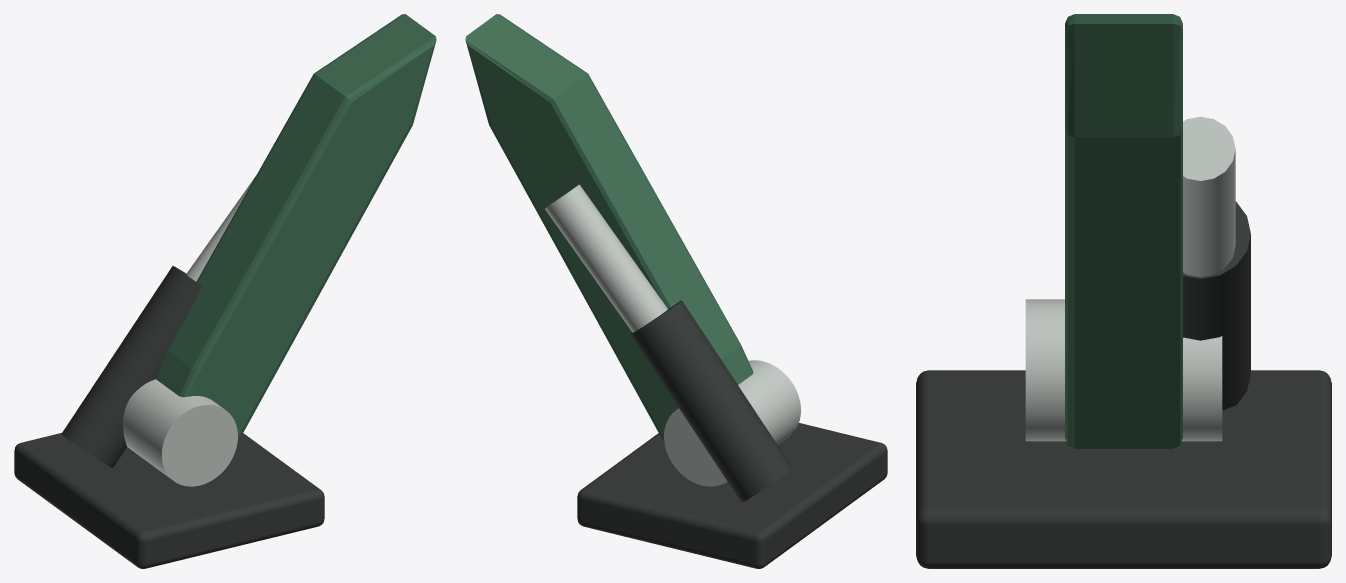
File: sawmill-and-timber-yard-log-turning-arm-dd2c0c8c__31160.glb
3 renders of one model, left to right at view 1: azimuth 30°, elevation 25°; view 2: azimuth 150°, elevation 25°; view 3: azimuth 270°, elevation 25°, orthographic. The views are drawn at different scales.
Visible parts, largest first — view 1: log-turning-arm; view 2: log-turning-arm; view 3: log-turning-arm.
Boxes of the visible parts, x1,y1,x2,y2 form: log-turning-arm: (14,14,436,568); log-turning-arm: (465,14,887,568); log-turning-arm: (916,14,1331,568).
Size of the model in its own units: 0.5886 by 0.6794 by 0.38.
